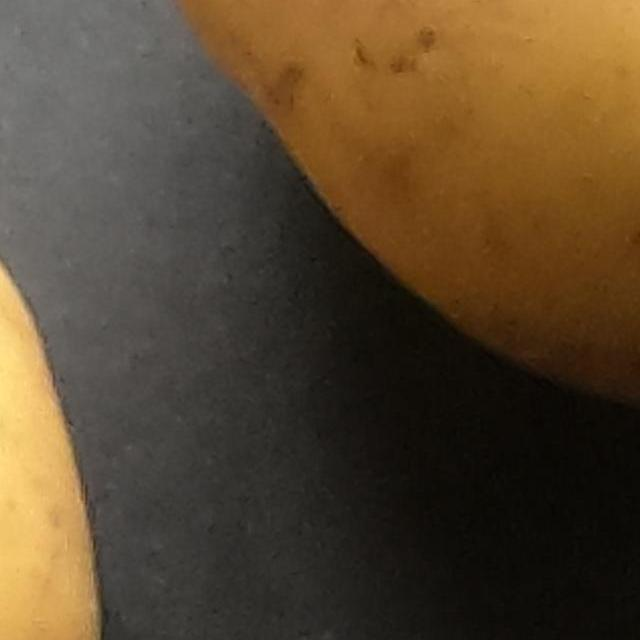potato: (86, 0, 640, 434), (0, 101, 159, 640)
